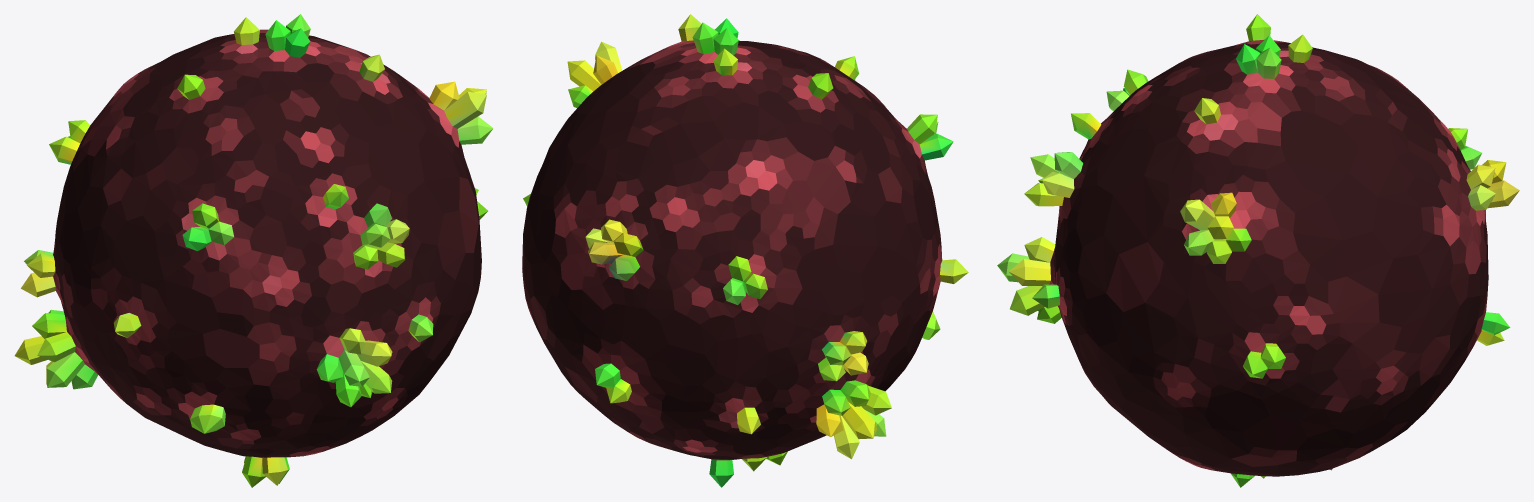
File: Crystal_planet_4.fbx
The picture shows the model from 3 angles, left to right: view 1: azimuth 30°, elevation 25°; view 2: azimuth 150°, elevation 25°; view 3: azimuth 270°, elevation 25°; orthographic projection. The views are drawn at different scales.
Parts seen in each view (by area): view 1: file6; view 2: file6; view 3: file6.
Boxes of the visible parts, x1,y1,x2,y2 form: file6: (14,14,493,487); file6: (522,14,968,487); file6: (997,14,1519,487).
Size of the model in its own units: 2.22 by 2.33 by 2.4.
